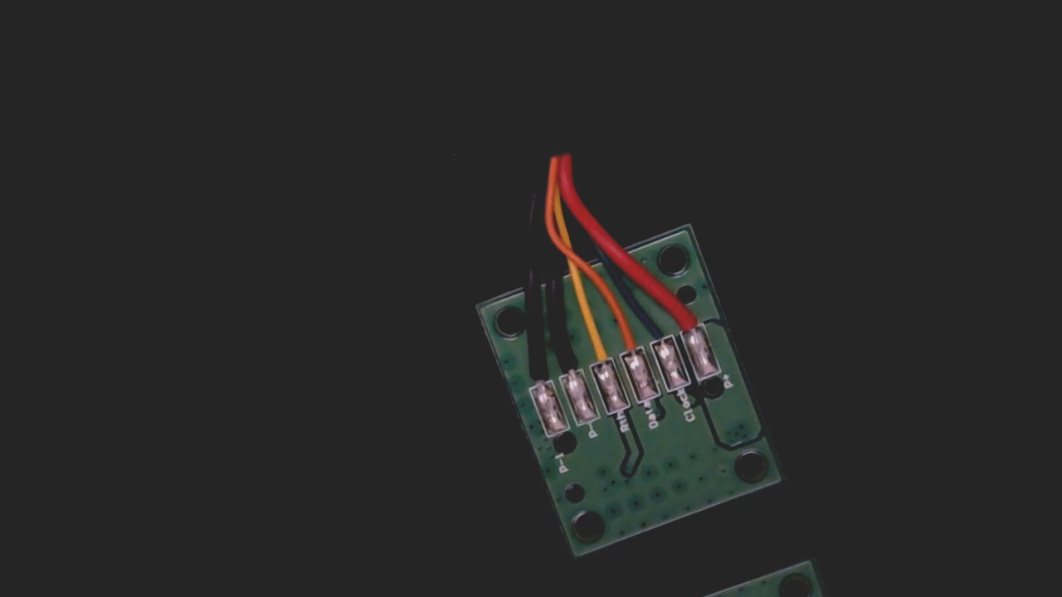Black: (547, 332, 587, 390)
Black1: (516, 342, 556, 400)
Green: (637, 300, 680, 361)
Orange: (606, 309, 647, 368)
Red: (668, 290, 709, 348)
Yellow: (577, 318, 616, 379)
